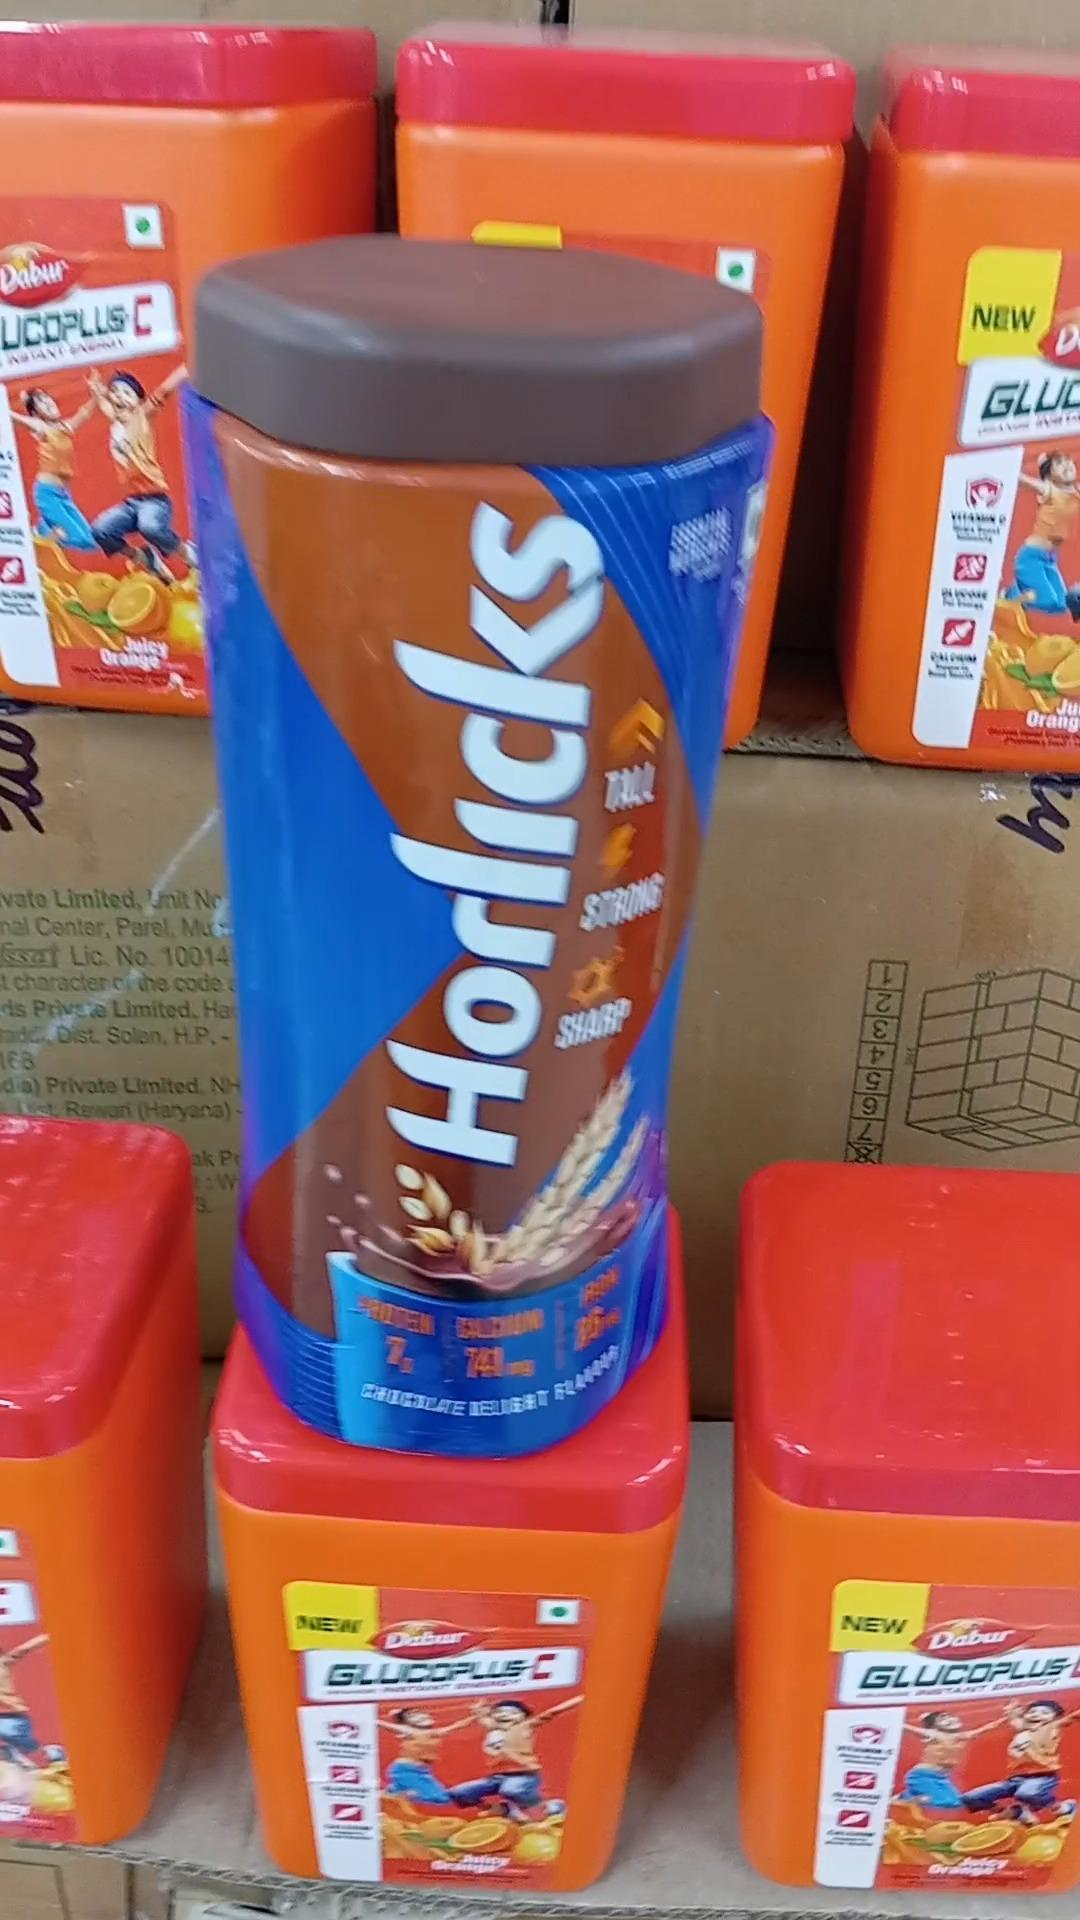HORLICK_CHOCOLATE_1_KG_JAR: (177, 223, 761, 1464)
